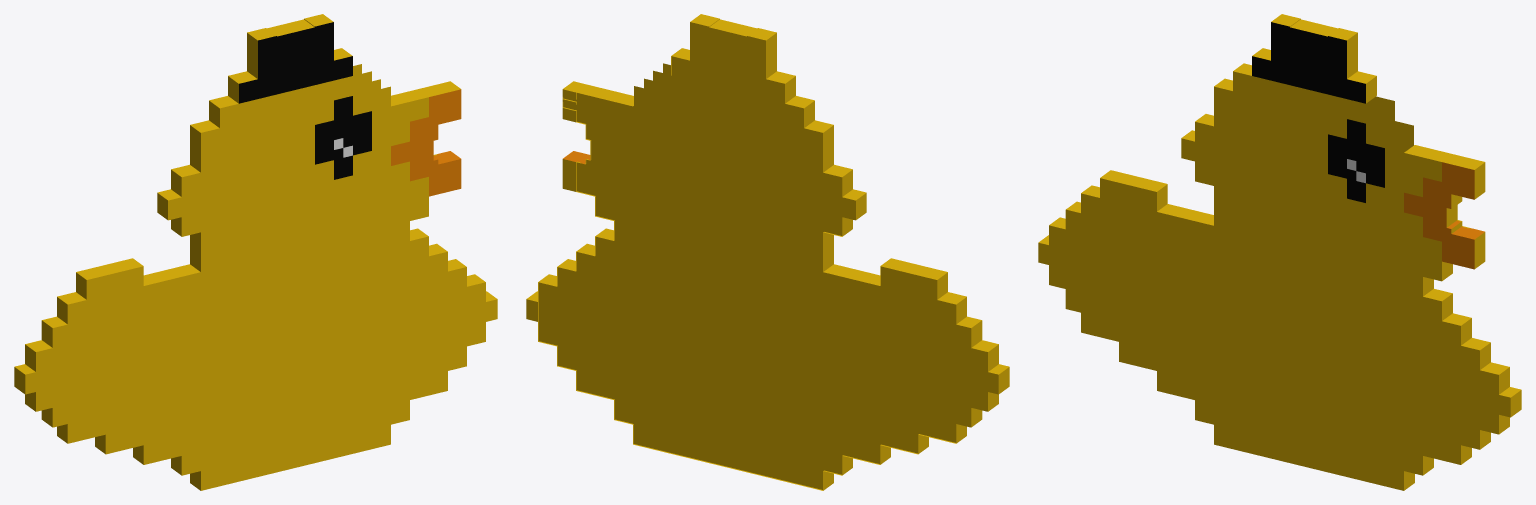
File: DUCKY_1.fbx
3 views of the same model, side by side, from view 1: azimuth 30°, elevation 25°; view 2: azimuth 150°, elevation 25°; view 3: azimuth 330°, elevation 25° (orthographic).
Visible parts, largest first — view 1: DUCKK; view 2: DUCKK; view 3: DUCKK.
Part boxes in pixels (x1,y1,x2,y2): DUCKK: (14, 14, 497, 490); DUCKK: (526, 14, 1009, 490); DUCKK: (1038, 14, 1521, 490).
Bounding box in the file's own units: 141 × 124 × 5.65.
